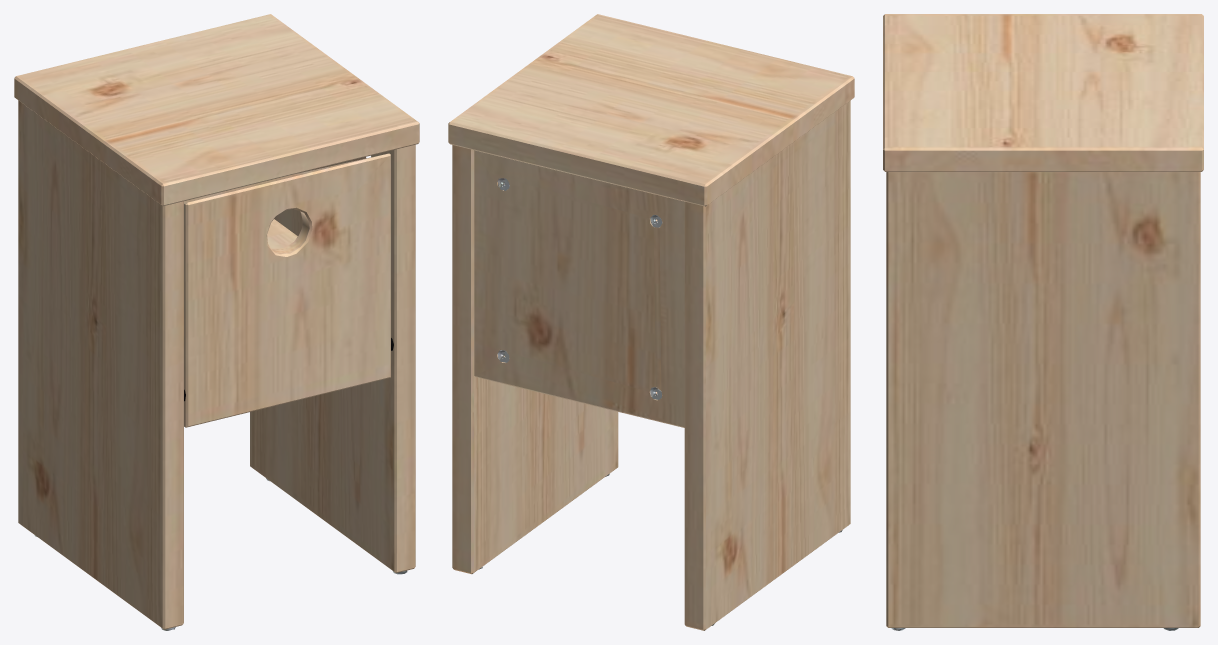
File: 19 - IKEA PS 2026 Bedside table - pine with flip-down door 30x30x50 cm.glb
3 views of the same model, side by side, from view 1: azimuth 30°, elevation 25°; view 2: azimuth 150°, elevation 25°; view 3: azimuth 270°, elevation 25° (orthographic). The views are drawn at different scales.
Visible parts, largest first — view 1: ASY_ART_60619942_S01_NV01; view 2: ASY_ART_60619942_S01_NV01; view 3: ASY_ART_60619942_S01_NV01.
Part boxes in pixels (x1,y1,x2,y2): ASY_ART_60619942_S01_NV01: (14,14,419,630); ASY_ART_60619942_S01_NV01: (448,14,854,630); ASY_ART_60619942_S01_NV01: (883,14,1203,630).
Size of the model in its own units: 0.302 by 0.505 by 0.302.
Materials: 1 (1 with a texture image).
